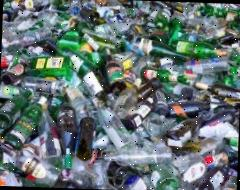glass: (0, 15, 240, 190)
